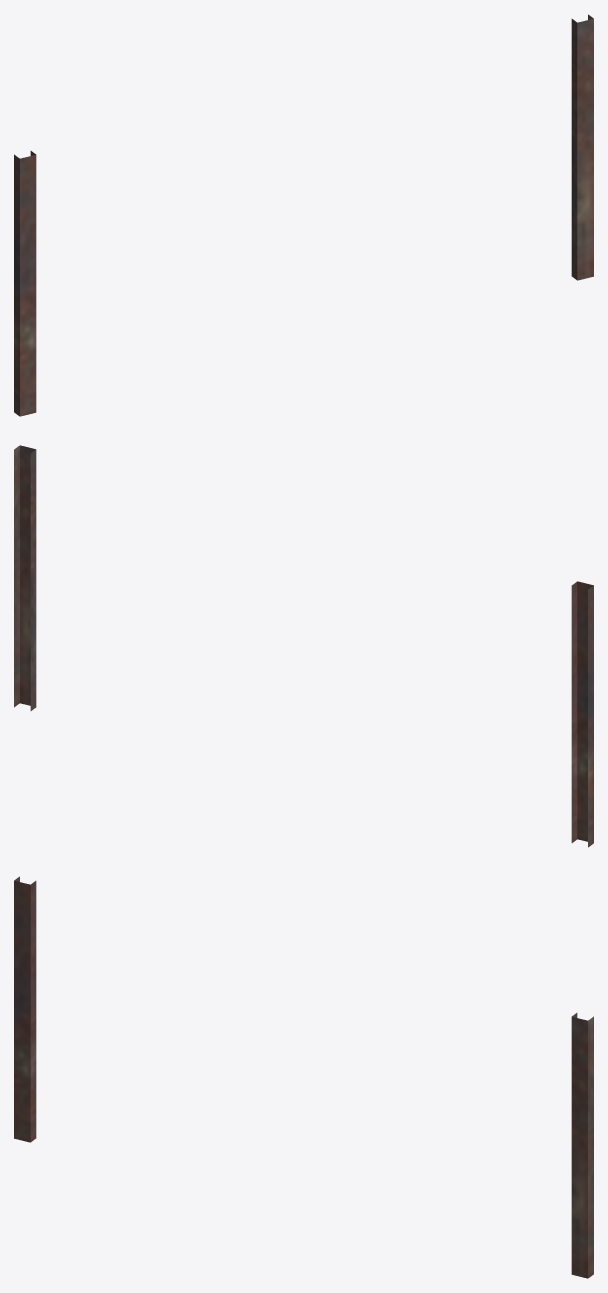
The model's file is LowerTrims.FBX.
3 views of the same model, one above another, from view 1: azimuth 30°, elevation 25°; view 2: azimuth 150°, elevation 25°; view 3: azimuth 330°, elevation 25° (orthographic).
Visible parts, largest first — view 1: LowerTrims; view 2: LowerTrims; view 3: LowerTrims.
Part boxes in pixels (bbox=[...]): LowerTrims: bbox=[14, 14, 593, 416]; LowerTrims: bbox=[14, 445, 593, 847]; LowerTrims: bbox=[14, 876, 593, 1278].
Size of the model in its own units: 280 by 120 by 5.
